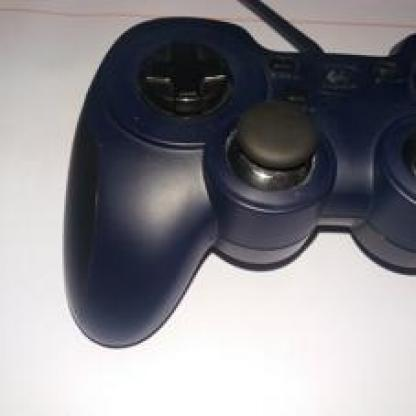gamepad: (68, 7, 414, 341)
